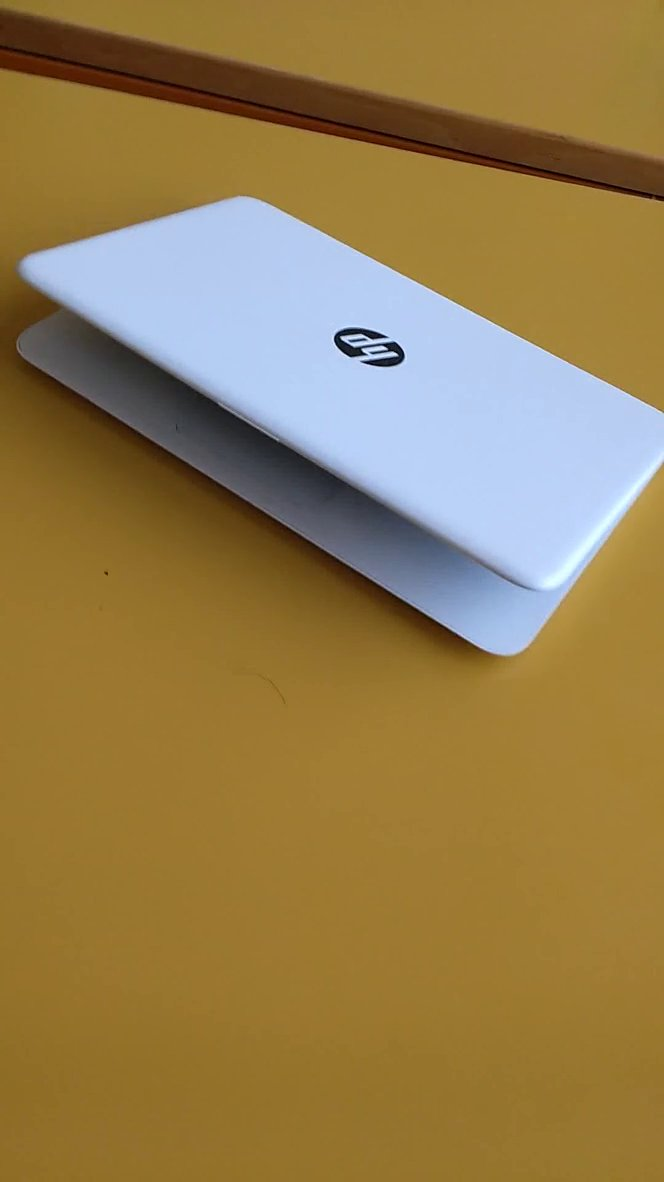laptop: (8, 179, 664, 679)
